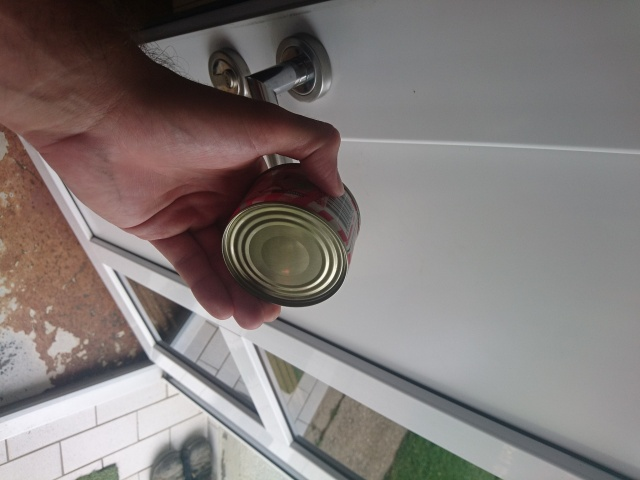Podravka Luncheon Meat 150g: (217, 160, 364, 311)
